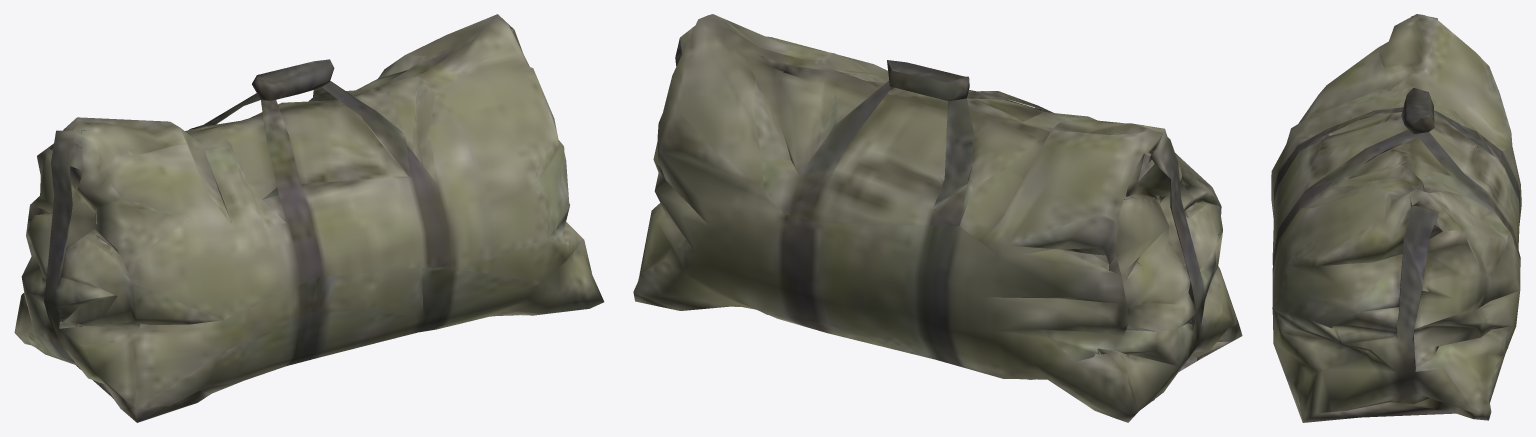
The model's file is sandbags_1131595002_lod0m.glb.
3 views of the same model, side by side, from view 1: azimuth 30°, elevation 25°; view 2: azimuth 150°, elevation 25°; view 3: azimuth 270°, elevation 25° (orthographic). The views are drawn at different scales.
Size of the model in its own units: 2.6 by 1.25 by 1.29.
1 material, 1 textured.
